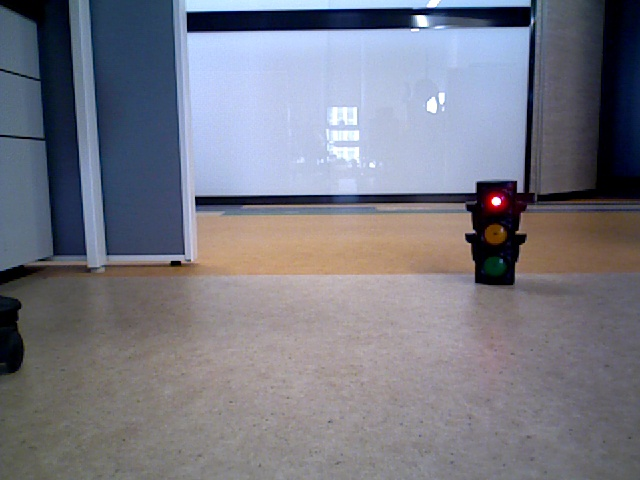red: (474, 180, 507, 281)
